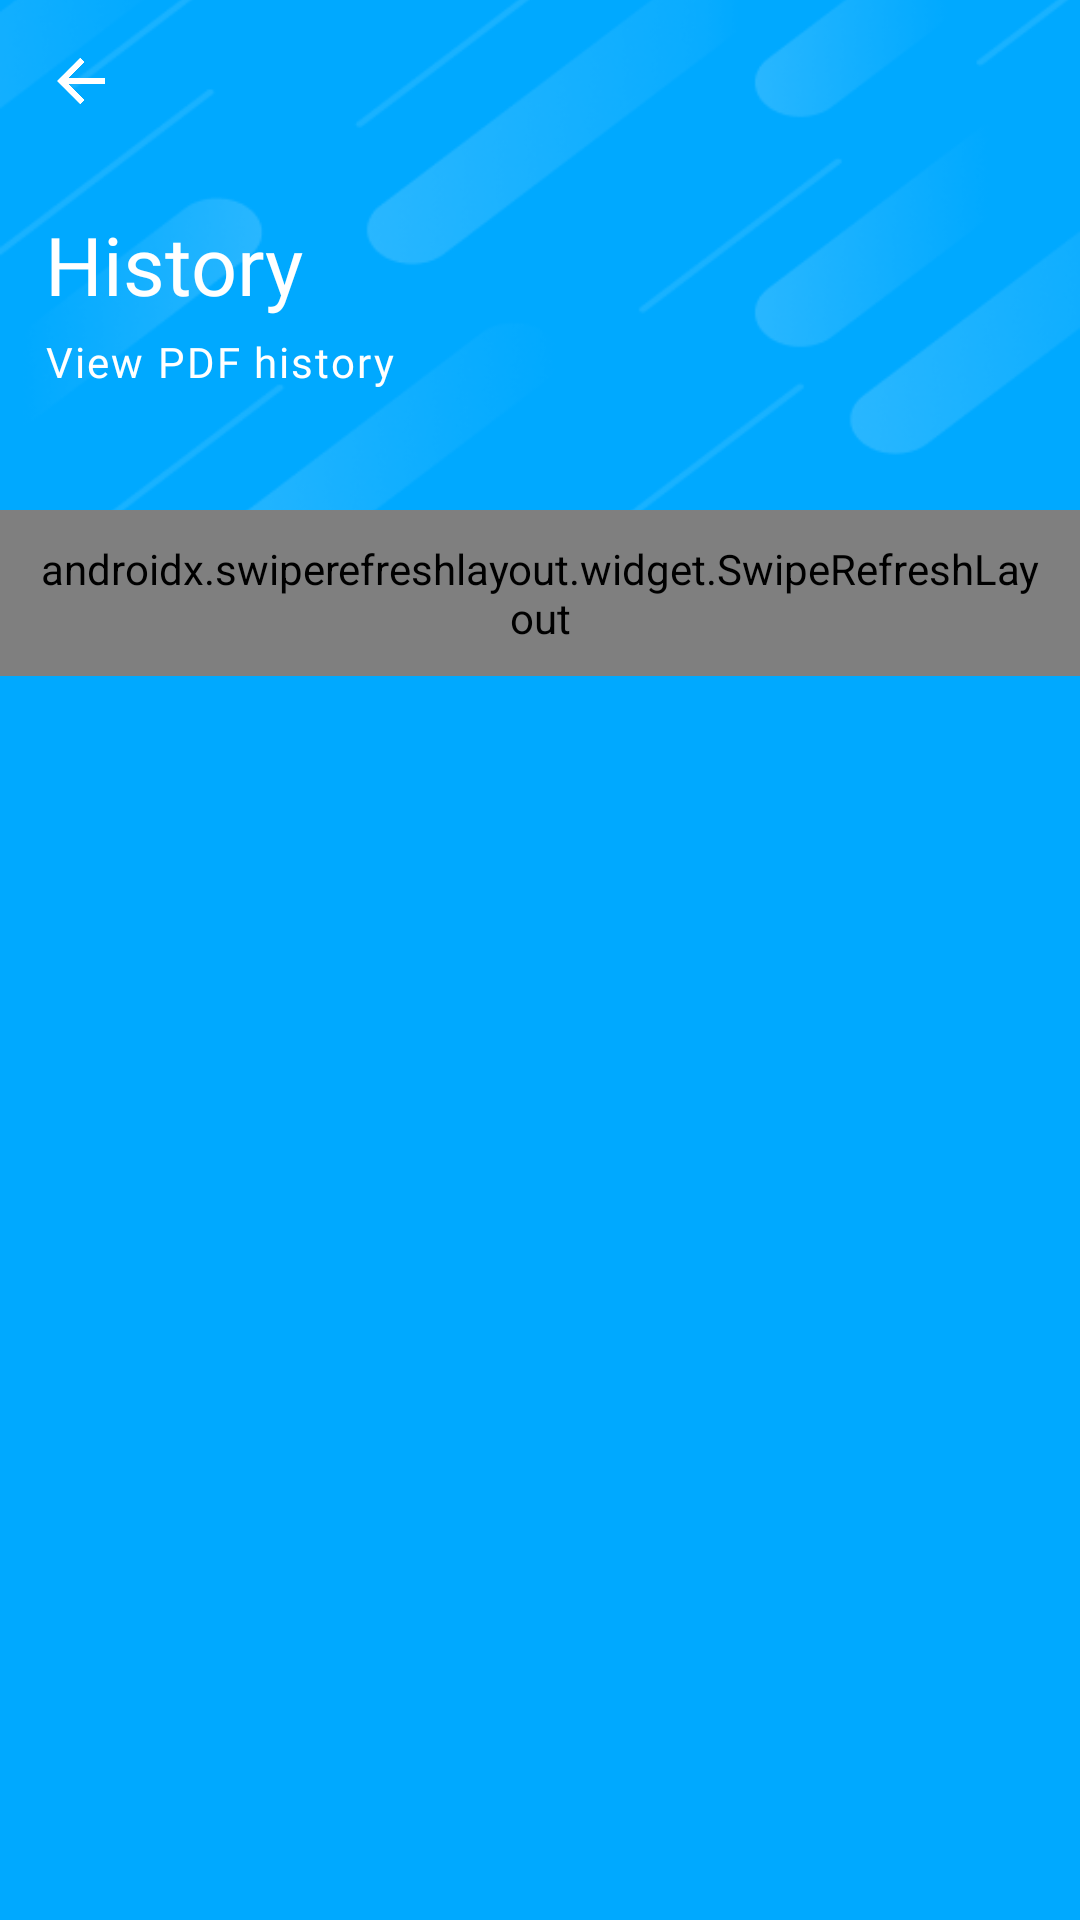

Icons on this 1080x1920 Android screen, each with the point to tap as [x,y]:
back: [86,78]
